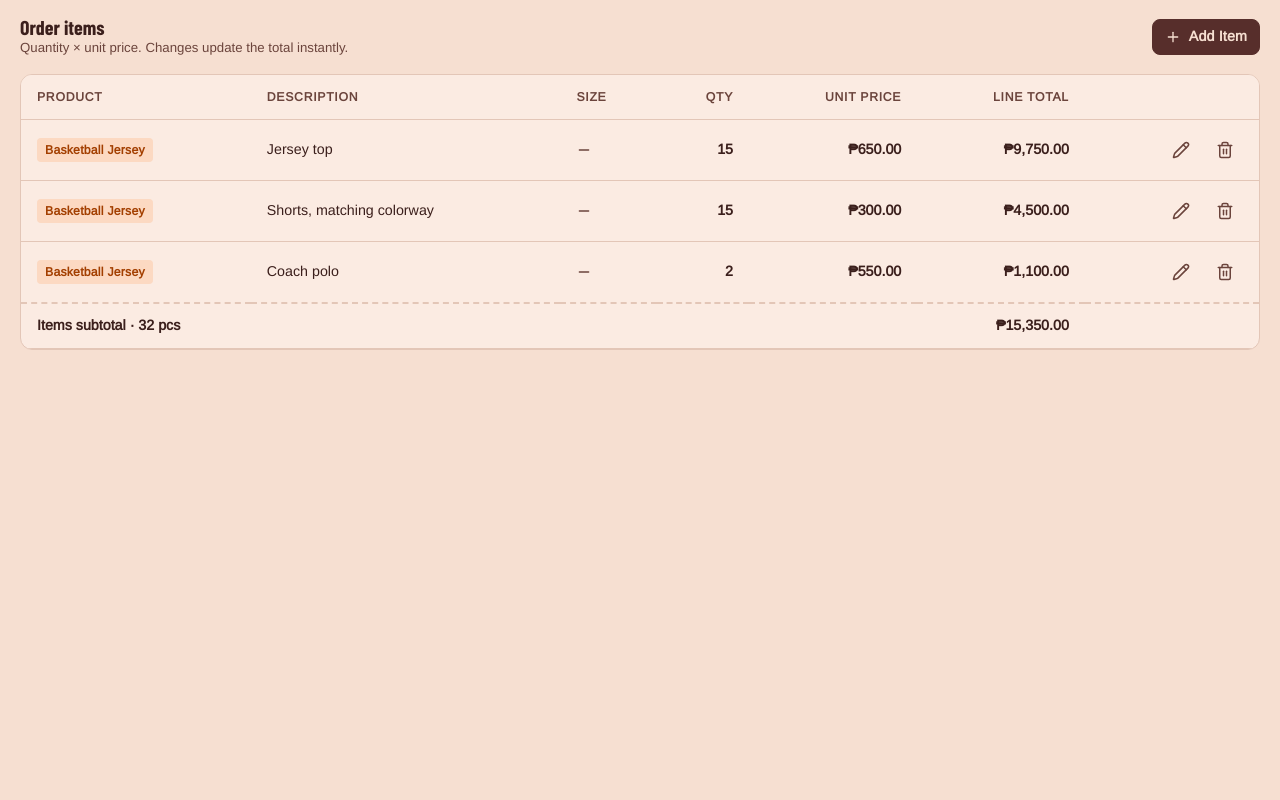
it: Delete Item › applies the answer, toasts "Item deleted" with the balance, and focuses the next row's Edit
This screenshot has width=1280, height=800.
Click the button named "Delete item 2, Shorts, matching colorway". click: {"x": 1225, "y": 211}
box: 1207,193 -> 1243,229
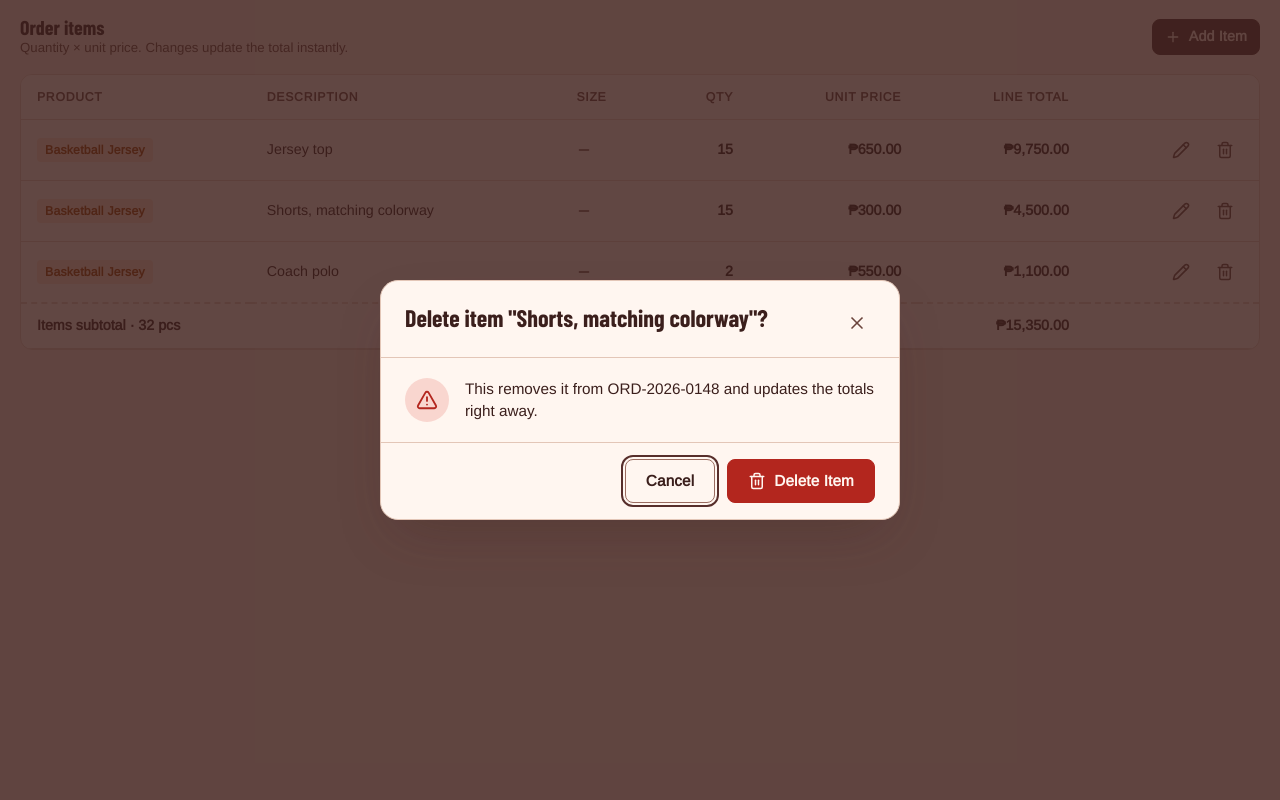
Click the button "Delete Item". click: {"x": 801, "y": 481}
box: 727,459 -> 875,503
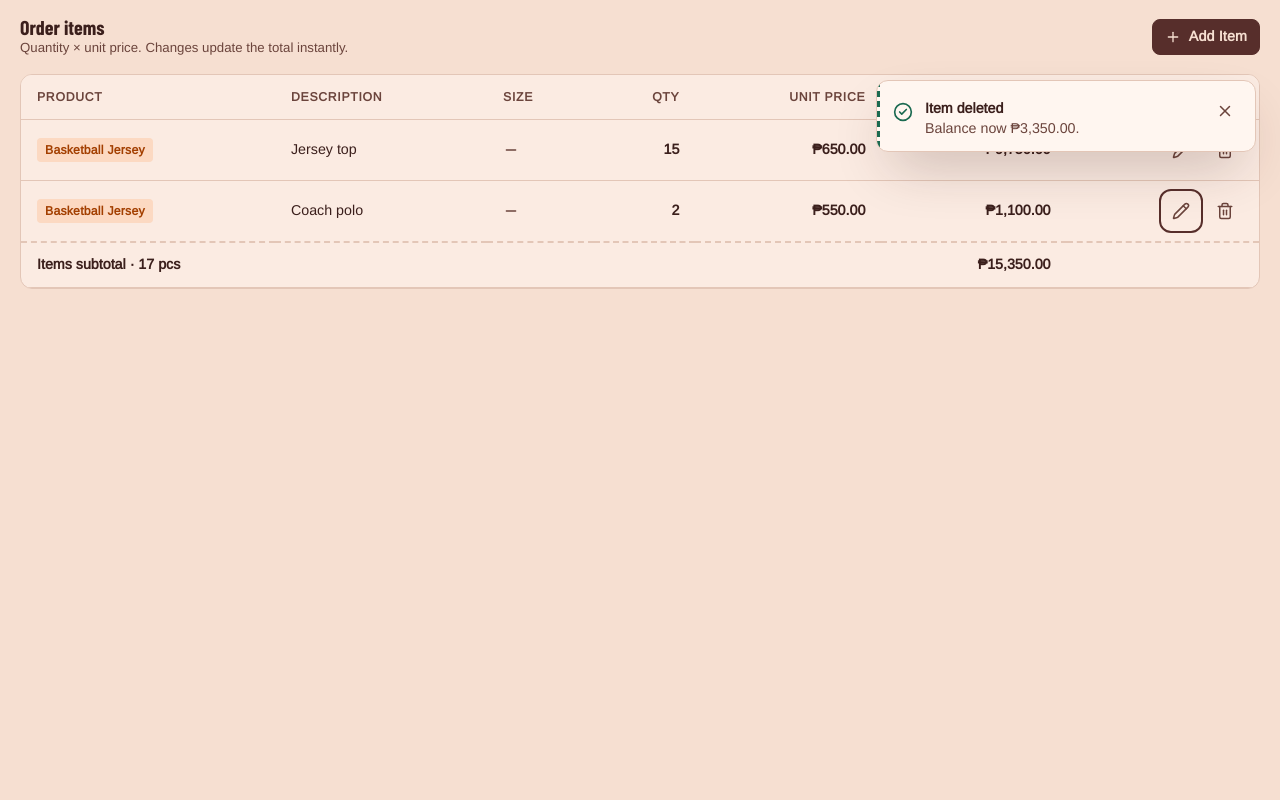
Now the text "Item deleted" is shown, box 925,101 -> 1003,116
Now the text "Balance now ₱3,350.00." is shown, box 925,121 -> 1080,136
Now the cell "Shorts, matching colorway" is gone
